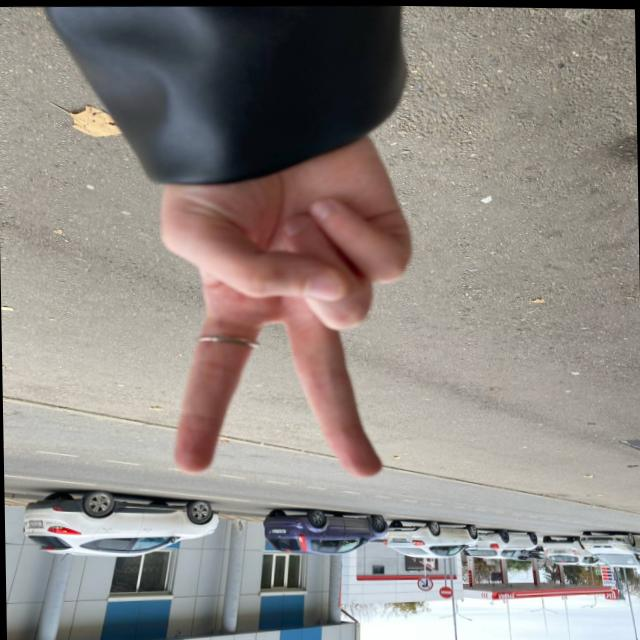k: (149, 204, 430, 507)
